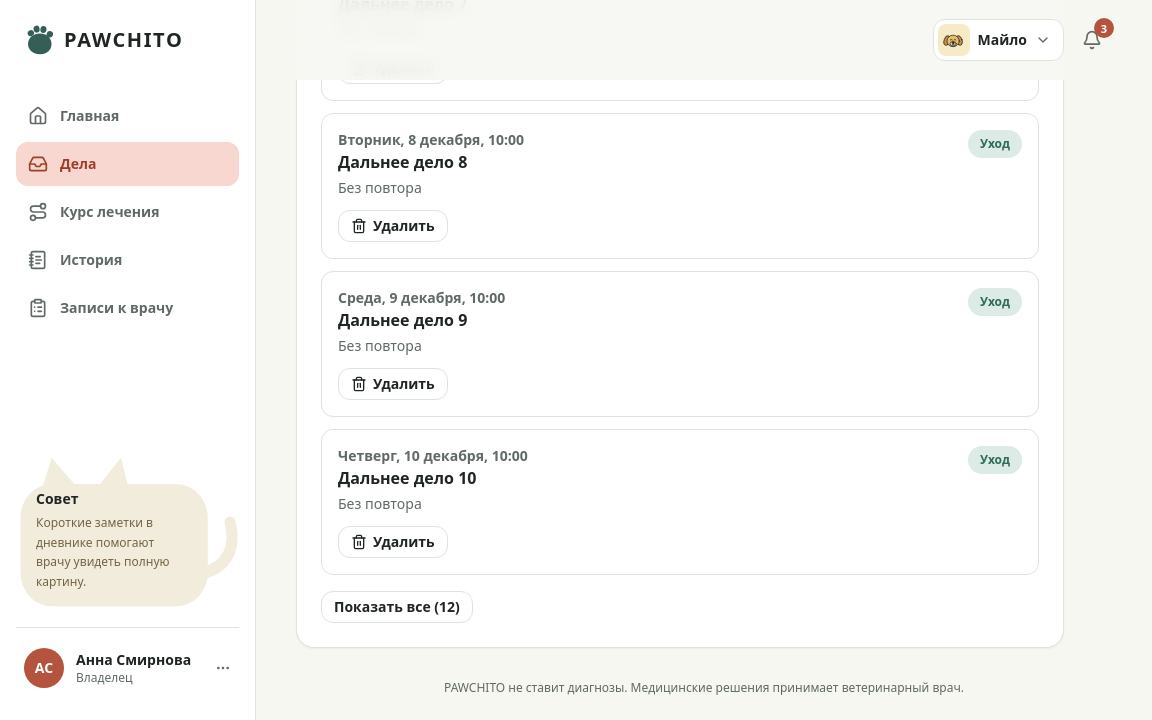
Scenario: TasksPage › длинный список дальних дел — первые 10, остальные по кнопке
(page scrolled)
Click the button "Показать все (12)" at [397, 606], box top-left (321, 590), bottom-right (473, 622)
(page scrolled)
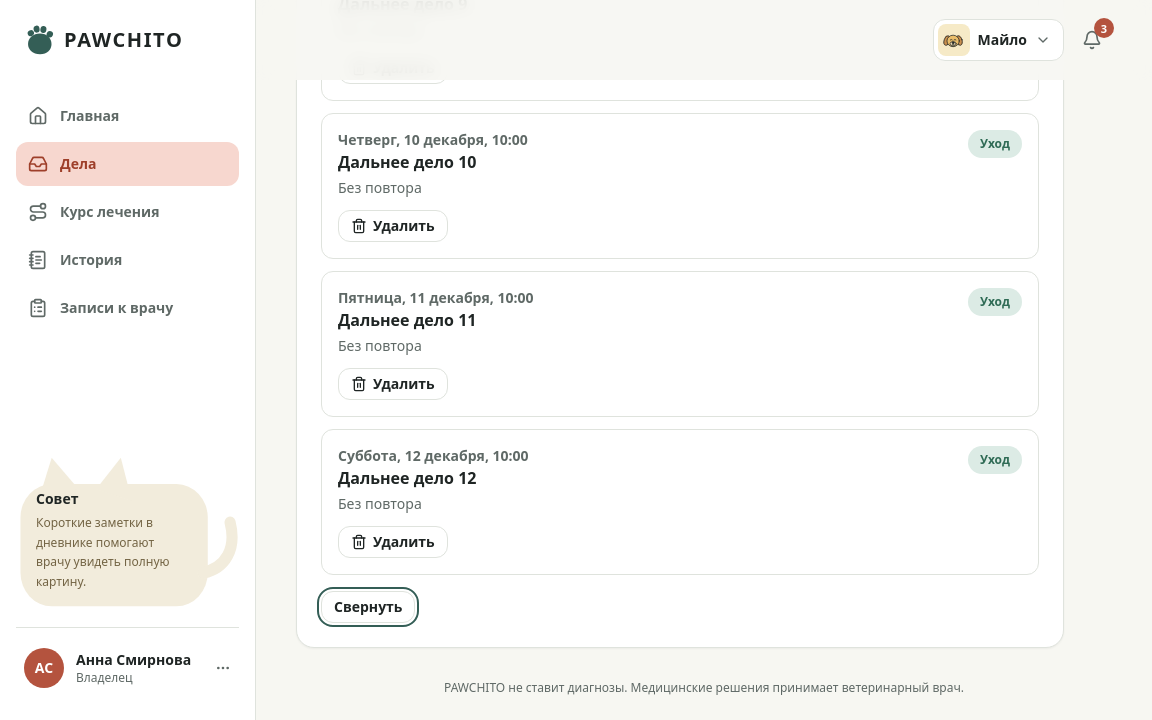
Check: the button named "Показать все (12)" reads "Свернуть", box top-left (321, 590), bottom-right (415, 622)
